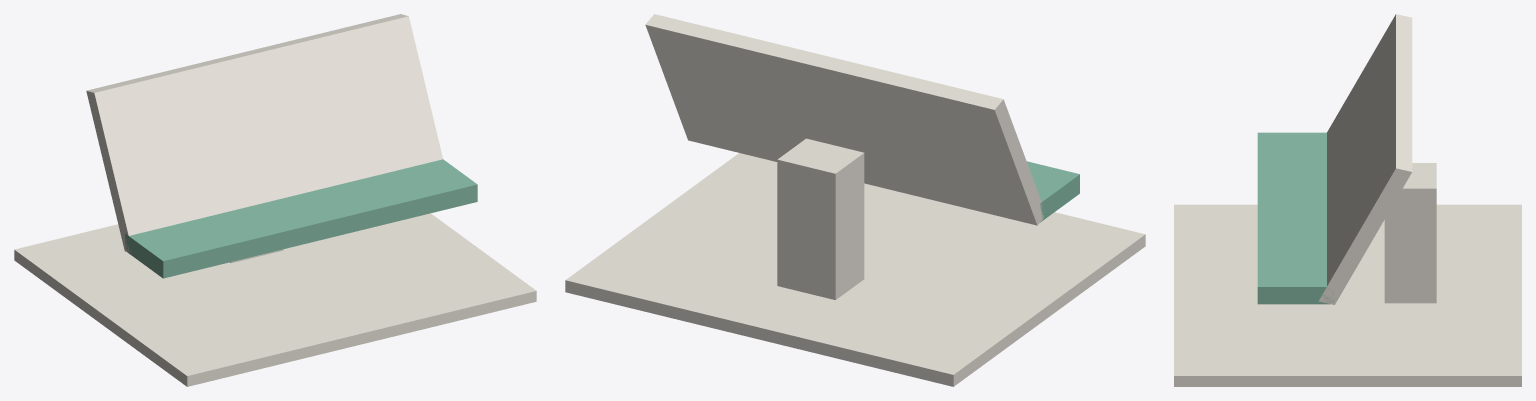
The model's file is laptop-stand.glb.
The picture shows the model from 3 angles, left to right: view 1: azimuth 30°, elevation 25°; view 2: azimuth 150°, elevation 25°; view 3: azimuth 270°, elevation 25°; orthographic projection. The views are drawn at different scales.
Parts seen in each view (by area): view 1: laptop-stand; view 2: laptop-stand; view 3: laptop-stand.
Boxes of the visible parts, left/top/right/bottom form: laptop-stand: left=14, top=14, right=536, bottom=386; laptop-stand: left=565, top=14, right=1145, bottom=386; laptop-stand: left=1174, top=14, right=1521, bottom=386.
Bounding box in the file's own units: 28 × 16 × 24.
